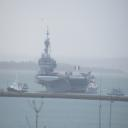Portanaves: (35, 26, 94, 95)
